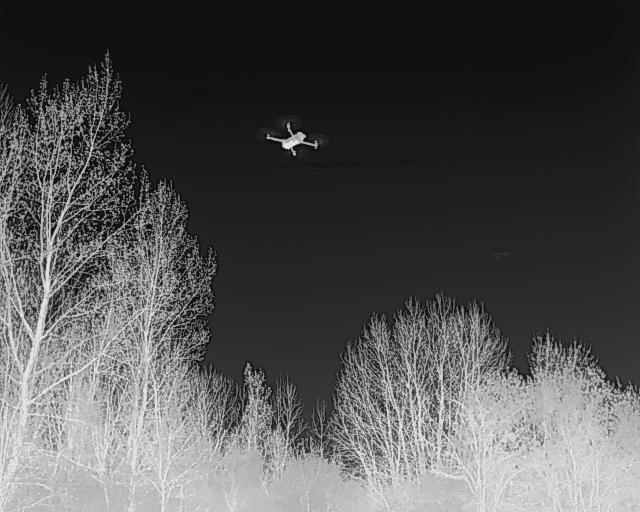drone: (252, 112, 332, 164)
